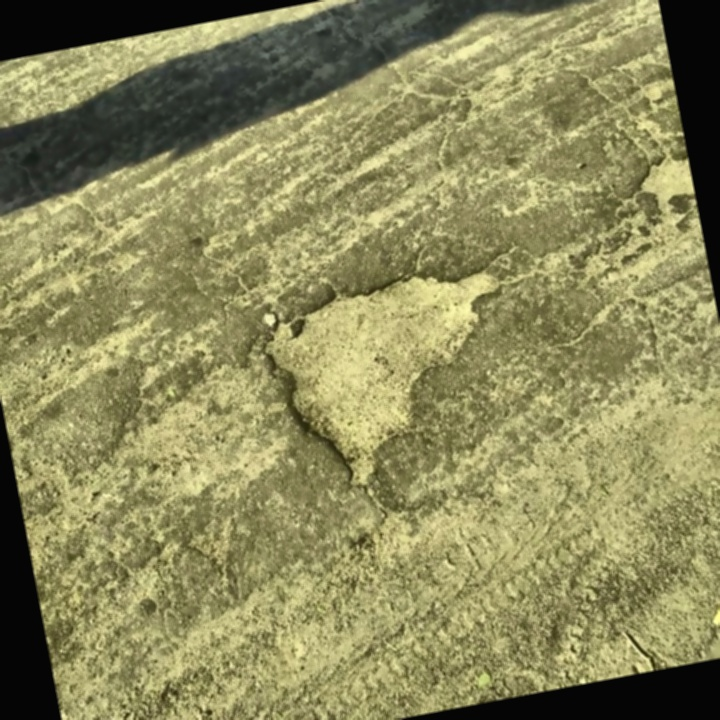pothole: (243, 253, 537, 503), (629, 151, 695, 212)
